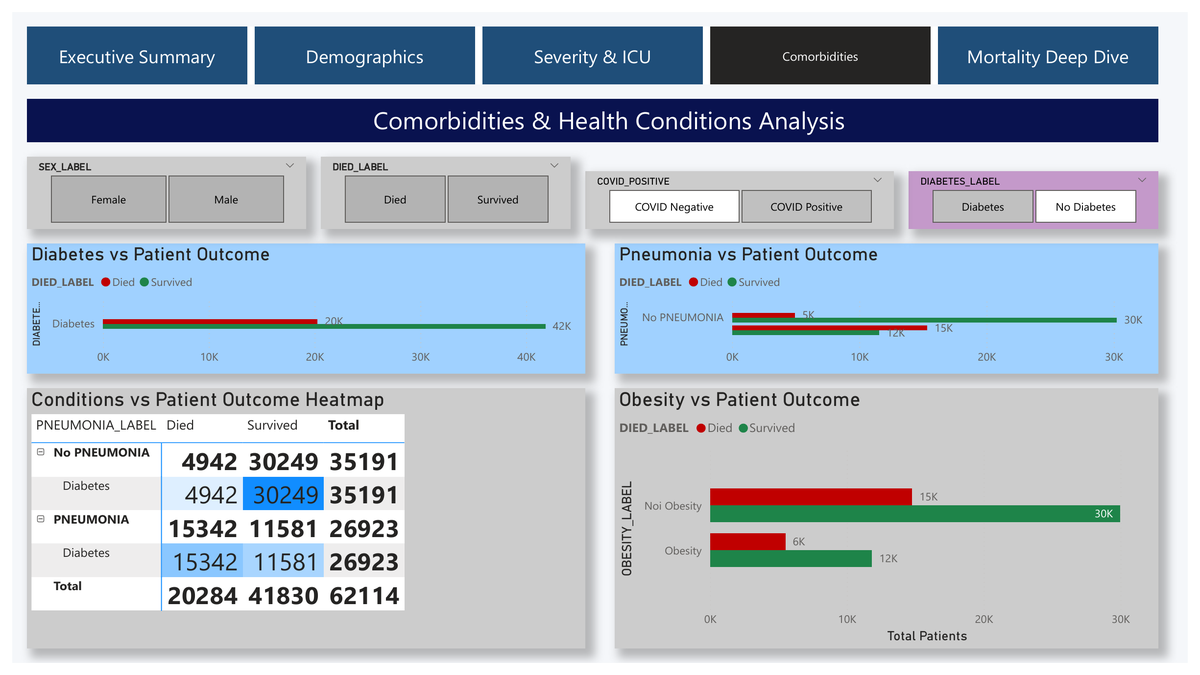

Layout of this report page (visuals, bound fields, positions):
{"tool":"powerbi","page":{"name":"Comorbidities","canvas":[1280,720],"ordinal":3},"visuals":[{"type":"textbox","box":[16,96,1232,48],"z":0},{"type":"clusteredBarChart","title":"Diabetes vs Patient Outcome","fields":{"Category":["Covid Data.DIABETES_LABEL"],"Y":["_Measures.Total Patients"],"Series":["Covid Data.DIED_LABEL"]},"box":[16,256,608,144],"z":1000},{"type":"clusteredBarChart","title":"Pneumonia vs Patient Outcome","fields":{"Category":["Covid Data.PNEUMONIA_LABEL"],"Y":["_Measures.Total Patients"],"Series":["Covid Data.DIED_LABEL"]},"box":[656,256,592,144],"z":2000},{"type":"pivotTable","title":"Conditions vs Patient Outcome Heatmap","fields":{"Rows":["Covid Data.PNEUMONIA_LABEL","Covid Data.DIABETES_LABEL"],"Columns":["Covid Data.DIED_LABEL"],"Values":["_Measures.Total Patients"]},"box":[16,416,608,288],"z":3000},{"type":"clusteredBarChart","title":"Obesity vs Patient Outcome","fields":{"Category":["Covid Data.OBESITY_LABEL"],"Y":["_Measures.Total Patients"],"Series":["Covid Data.DIED_LABEL"]},"box":[656,416,592,288],"z":4000},{"type":"slicer","fields":{"Values":["Covid Data.DIABETES_LABEL"]},"box":[976,176,272,64],"z":5000},{"type":"slicer","fields":{"Values":["Covid Data.COVID_POSITIVE"]},"box":[624,176,336,64],"z":6000},{"type":"pageNavigator","box":[16,16,1232,64],"z":7000},{"type":"slicer","fields":{"Values":["Covid Data.SEX_LABEL"]},"box":[16,160,304,80],"z":8000},{"type":"slicer","fields":{"Values":["Covid Data.DIED_LABEL"]},"box":[336,160,272,80],"z":9000}]}

Visuals, with their boxes in screenshot pixels (x1, y1, x2, y2), scaled from the page's 1280x720 canvas onto the 1200x675 screenshot:
textbox: box(15, 90, 1170, 135)
"Diabetes vs Patient Outcome" clusteredBarChart: box(15, 240, 585, 375)
"Pneumonia vs Patient Outcome" clusteredBarChart: box(615, 240, 1170, 375)
"Conditions vs Patient Outcome Heatmap" pivotTable: box(15, 390, 585, 660)
"Obesity vs Patient Outcome" clusteredBarChart: box(615, 390, 1170, 660)
slicer - Covid Data.DIABETES_LABEL: box(915, 165, 1170, 225)
slicer - Covid Data.COVID_POSITIVE: box(585, 165, 900, 225)
pageNavigator: box(15, 15, 1170, 75)
slicer - Covid Data.SEX_LABEL: box(15, 150, 300, 225)
slicer - Covid Data.DIED_LABEL: box(315, 150, 570, 225)
